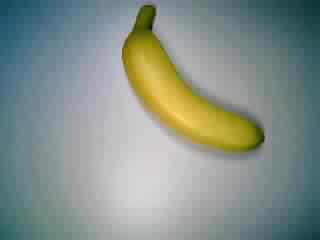banana: (116, 4, 271, 157)
